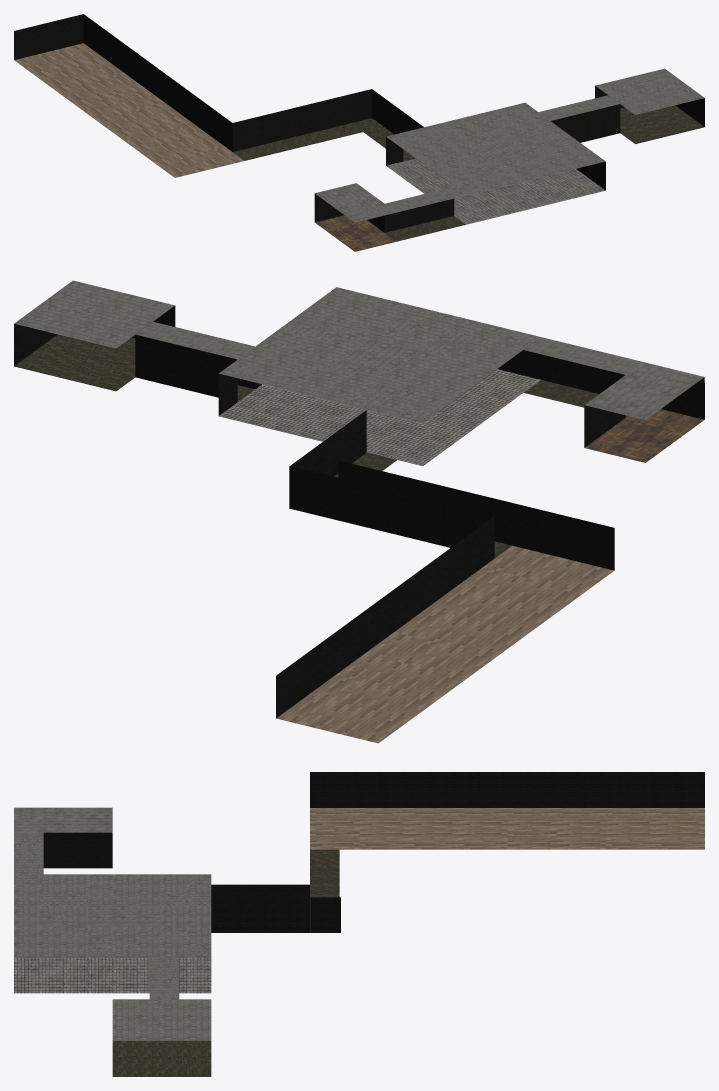
The picture shows the model from 3 angles, top to bottom: view 1: azimuth 30°, elevation 25°; view 2: azimuth 150°, elevation 25°; view 3: azimuth 270°, elevation 25°; orthographic projection. The views are drawn at different scales.
Parts seen in each view (by area): view 1: lrceiling_Plane.040, widehallfloor02_Plane.030, widehallfloor01_Plane.027, lrfloor_Plane, mrceiling_Plane.038, hall2wall06_Plane.025, widehallwall06_Plane.034, hall2wall07_Plane.022, mrfloor_Plane.001, deadendceiling_Plane.042, hallwall02_Plane.013, deadendfloor_Plane.047 (+15 smaller); view 2: lrceiling_Plane.040, widehallfloor02_Plane.030, widehallfloor01_Plane.027, lrfloor_Plane, mrceiling_Plane.038, hall2wall07_Plane.022, widehallwall01_Plane.028, mrfloor_Plane.001, hallwall01_Plane.010, deadendceiling_Plane.042, hall2wall06_Plane.025, deadendfloor_Plane.047 (+16 smaller); view 3: lrceiling_Plane.040, widehallfloor02_Plane.030, widehallfloor01_Plane.027, lrfloor_Plane, mrceiling_Plane.038, widehallwall04_Plane.032, mrfloor_Plane.001, widehallwall05_Plane.033, widehallwall03_Plane.031, widehallwall02_Plane.029, hall2wall02_Plane.007, deadendwall01_Plane.048 (+6 smaller).
Part boxes in pixels (box(x1,y1,x2,y2)): lrceiling_Plane.040: box(386, 102, 605, 195); widehallfloor02_Plane.030: box(14, 43, 163, 118); widehallfloor01_Plane.027: box(95, 102, 243, 177); lrfloor_Plane: box(386, 158, 605, 224); mrceiling_Plane.038: box(595, 68, 704, 114); hall2wall06_Plane.025: box(232, 106, 302, 151); widehallwall06_Plane.034: box(14, 14, 83, 59); hall2wall07_Plane.022: box(302, 89, 371, 134); mrfloor_Plane.001: box(620, 105, 704, 143); deadendceiling_Plane.042: box(315, 183, 396, 222); hallwall02_Plane.013: box(551, 104, 620, 142); deadendfloor_Plane.047: box(315, 215, 396, 251); lrceiling_Plane.040: box(219, 287, 540, 423); widehallfloor02_Plane.030: box(276, 632, 495, 743); widehallfloor01_Plane.027: box(394, 545, 613, 656); lrfloor_Plane: box(219, 369, 540, 465); mrceiling_Plane.038: box(14, 280, 174, 348); hall2wall07_Plane.022: box(290, 466, 392, 533); widehallwall01_Plane.028: box(512, 503, 614, 570); mrfloor_Plane.001: box(14, 334, 135, 391); hallwall01_Plane.010: box(135, 334, 237, 397); deadendceiling_Plane.042: box(584, 362, 703, 419); hall2wall06_Plane.025: box(392, 491, 493, 547); deadendfloor_Plane.047: box(585, 409, 704, 462); lrceiling_Plane.040: box(14, 874, 211, 957); widehallfloor02_Plane.030: box(507, 808, 704, 849); widehallfloor01_Plane.027: box(310, 808, 507, 849); lrfloor_Plane: box(14, 957, 211, 993); mrceiling_Plane.038: box(112, 999, 211, 1040); widehallwall04_Plane.032: box(507, 772, 606, 807); mrfloor_Plane.001: box(112, 1041, 211, 1076); widehallwall05_Plane.033: box(606, 772, 704, 807); widehallwall03_Plane.031: box(409, 772, 507, 807); widehallwall02_Plane.029: box(310, 772, 408, 807); hall2wall02_Plane.007: box(211, 897, 309, 932); deadendwall01_Plane.048: box(43, 832, 112, 868).
Size of the model in its own units: 645 by 40 by 700.
6 materials, 6 textured.
